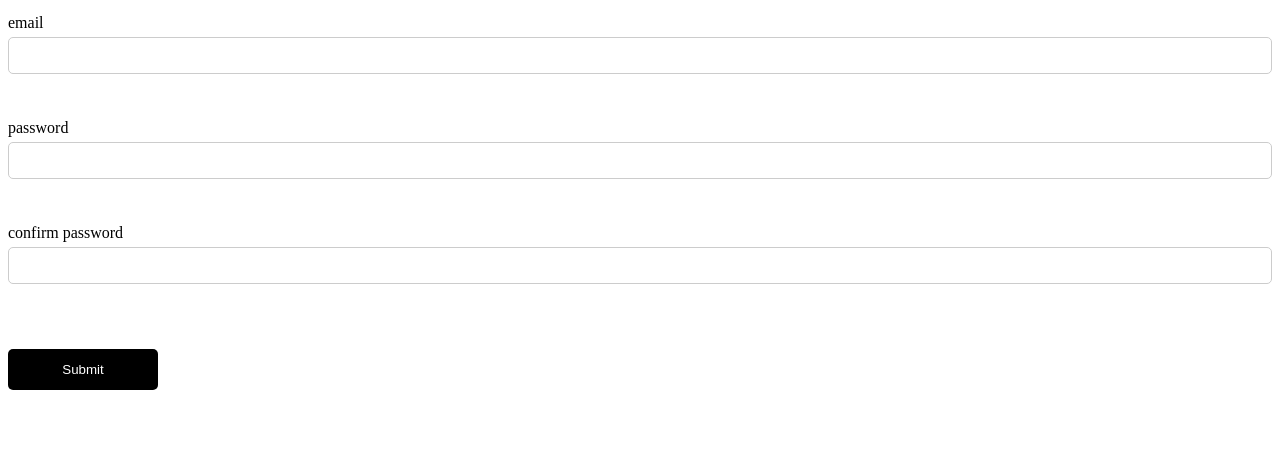
Test: Form Tests › Error › password invalid error
Type "1234" into the password field labelled "password".
click(640, 160); type("1234")  # box [8,142,1272,179]
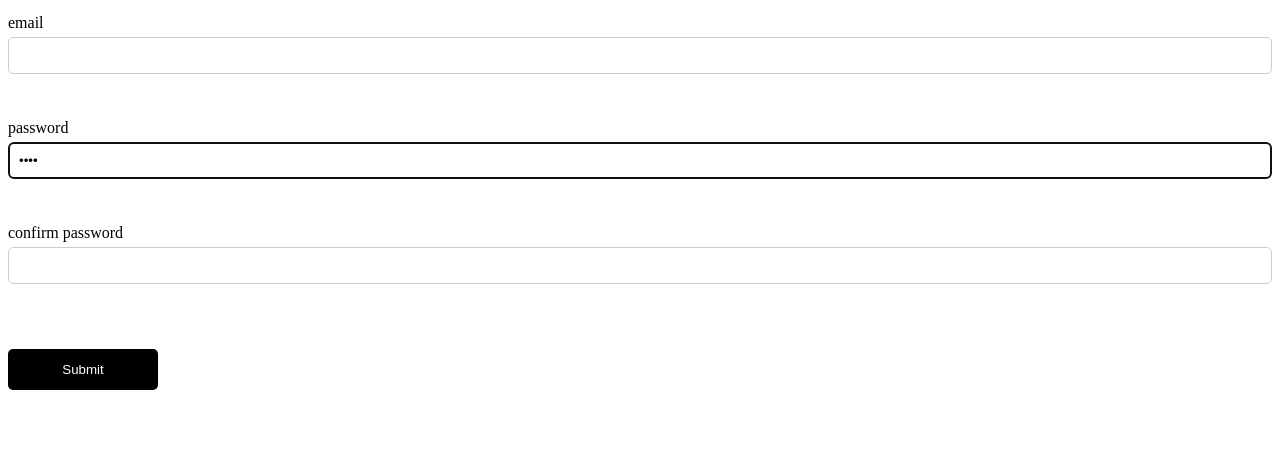
Click the button "Submit".
click(83, 370)  # box [8,349,158,390]
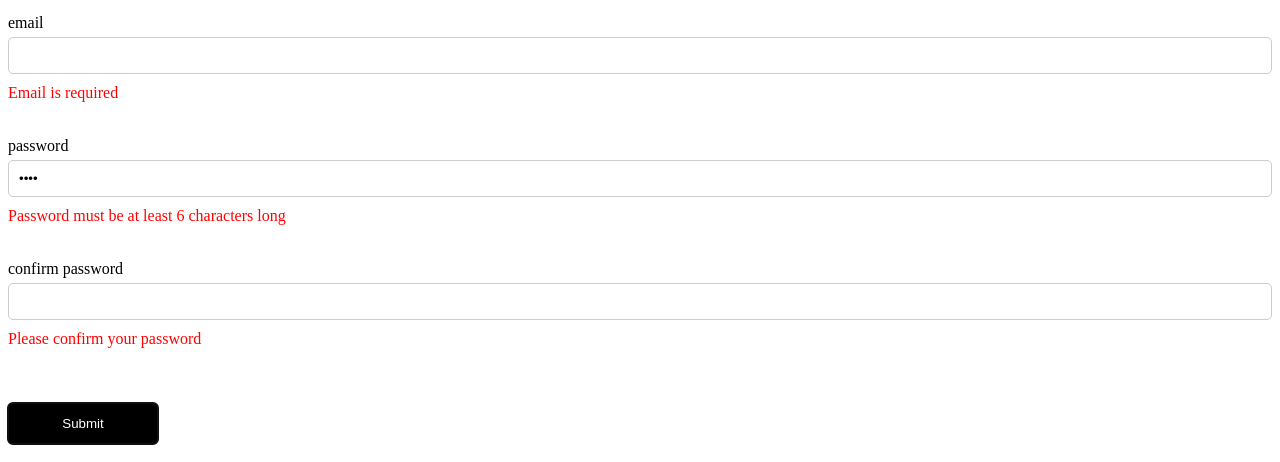
Check: the text "Password must be at least 6 characters long" is shown, box [8,207,286,224]
